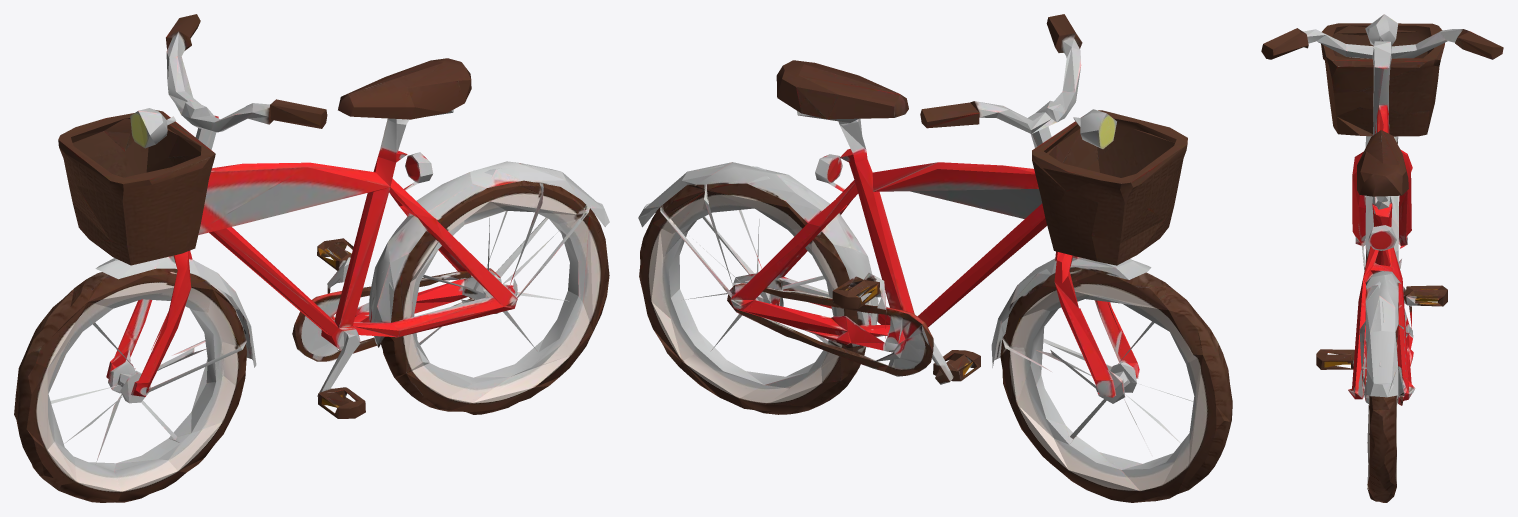
Rendered from bicycle.glb.
3 renders of one model, left to right at view 1: azimuth 30°, elevation 25°; view 2: azimuth 150°, elevation 25°; view 3: azimuth 270°, elevation 25°, orthographic. The views are drawn at different scales.
Bounding box in the file's own units: 1.66 × 1.1 × 0.6869.
Materials: 1 (1 with a texture image).
